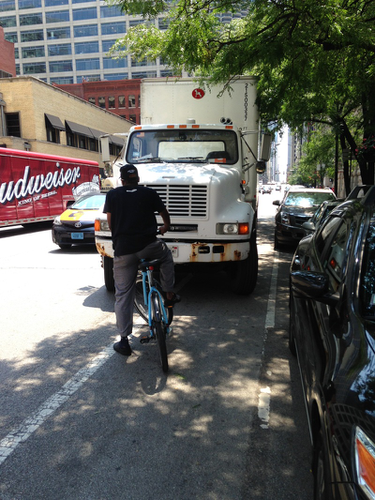bikerider: (76, 157, 207, 402)
